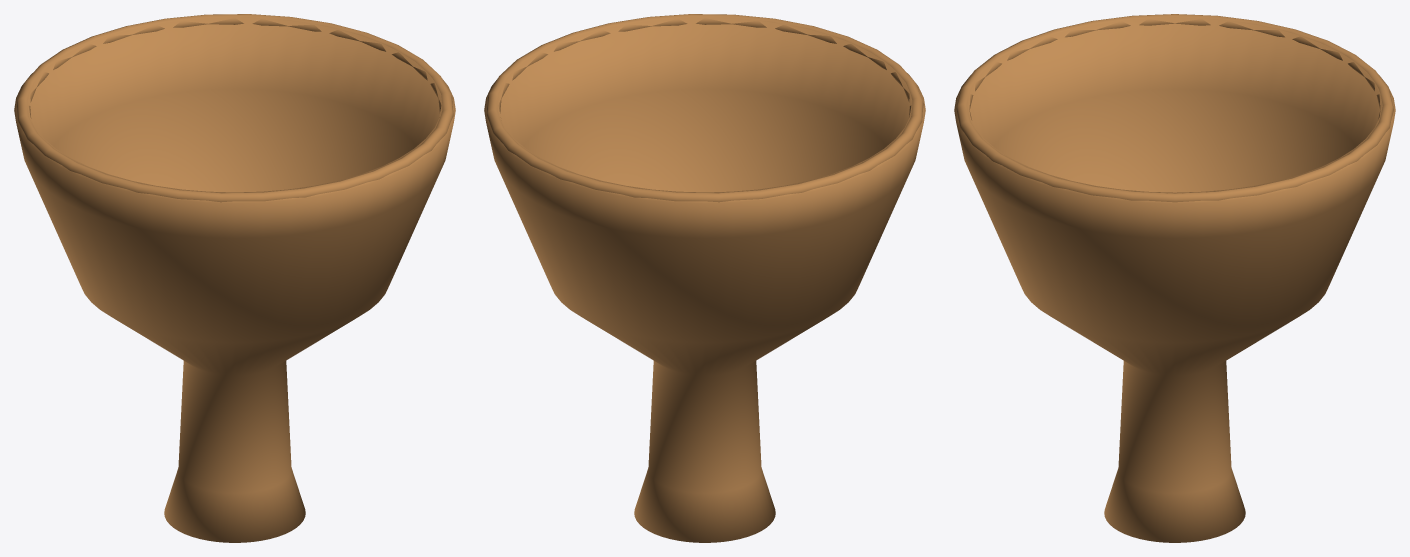
The model's file is bacia.glb.
3 renders of one model, left to right at view 1: azimuth 30°, elevation 25°; view 2: azimuth 150°, elevation 25°; view 3: azimuth 270°, elevation 25°, orthographic.
Parts seen in each view (by area): view 1: Recipiente aberto, Borda trabalhada; view 2: Recipiente aberto, Borda trabalhada; view 3: Recipiente aberto, Borda trabalhada.
Boxes of the visible parts, left/top/right/bottom form: Recipiente aberto: left=14, top=17, right=455, bottom=542; Borda trabalhada: left=16, top=14, right=453, bottom=202; Recipiente aberto: left=484, top=17, right=925, bottom=542; Borda trabalhada: left=486, top=14, right=923, bottom=202; Recipiente aberto: left=954, top=18, right=1395, bottom=542; Borda trabalhada: left=956, top=14, right=1393, bottom=202.
Size of the model in its own units: 1.56 by 1.67 by 1.56.
